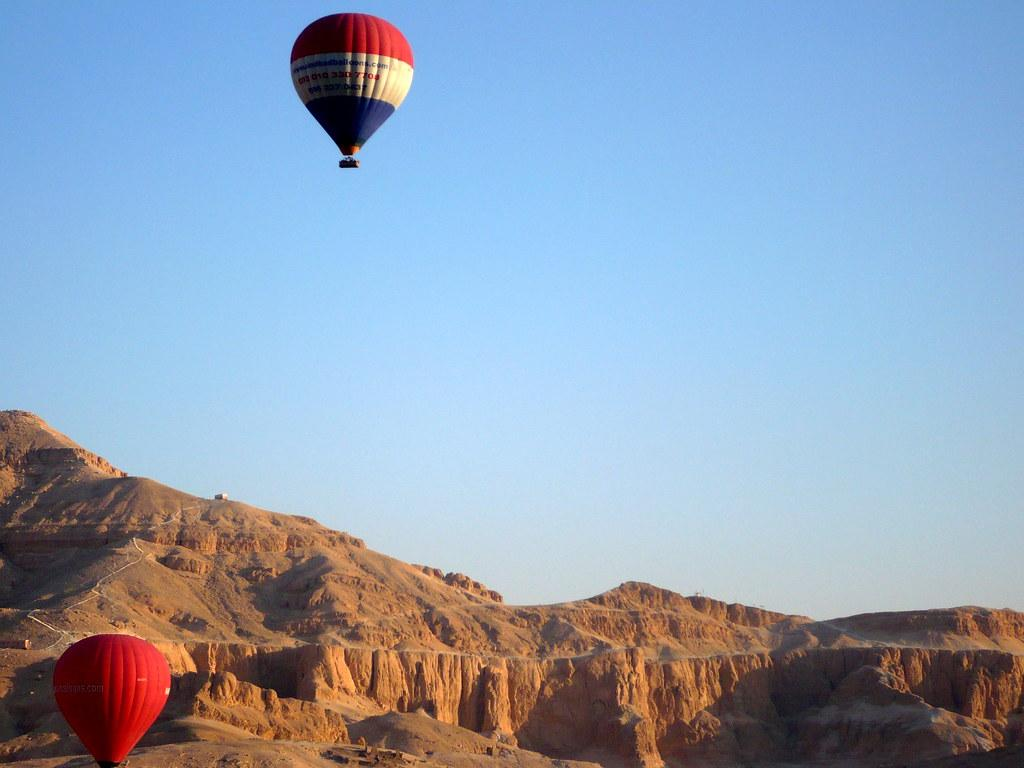balloon: (289, 12, 415, 169), (52, 633, 172, 767)
